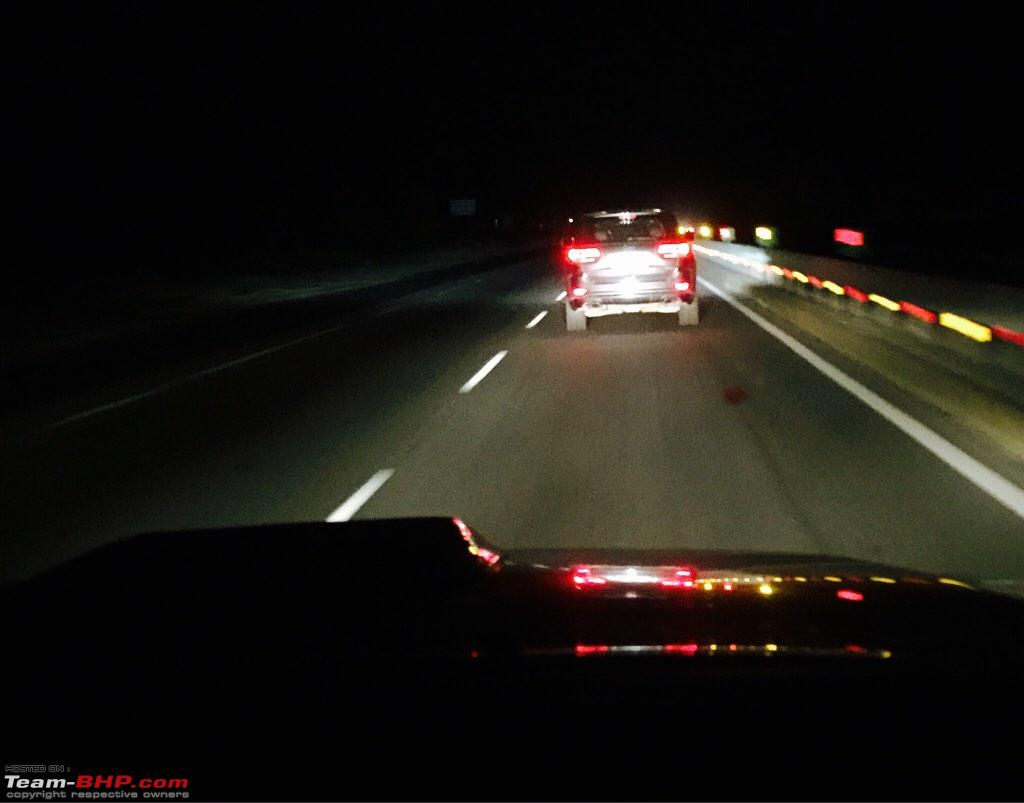car: (564, 212, 703, 331)
